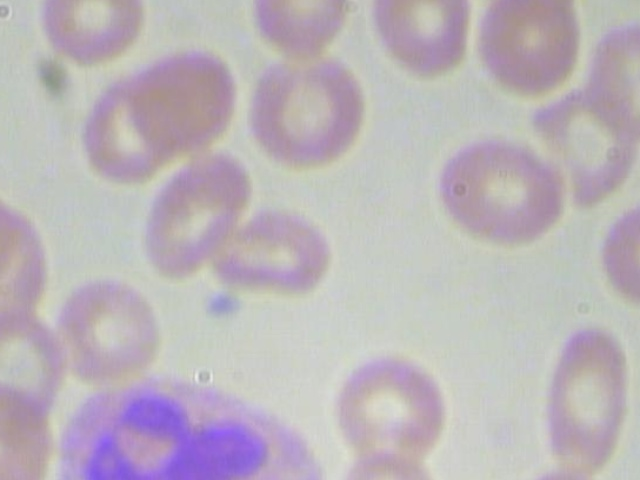Platelets: (204, 288, 255, 326)
RBC: (242, 42, 371, 178), (430, 129, 566, 249), (139, 148, 250, 289), (208, 198, 343, 313), (331, 348, 455, 469), (540, 318, 630, 480), (48, 273, 171, 387), (128, 39, 245, 154), (467, 0, 584, 101), (368, 0, 472, 85), (28, 0, 152, 69), (580, 20, 640, 149), (0, 309, 68, 420), (595, 198, 640, 318), (335, 451, 452, 480)
WBC: (34, 366, 341, 480)
